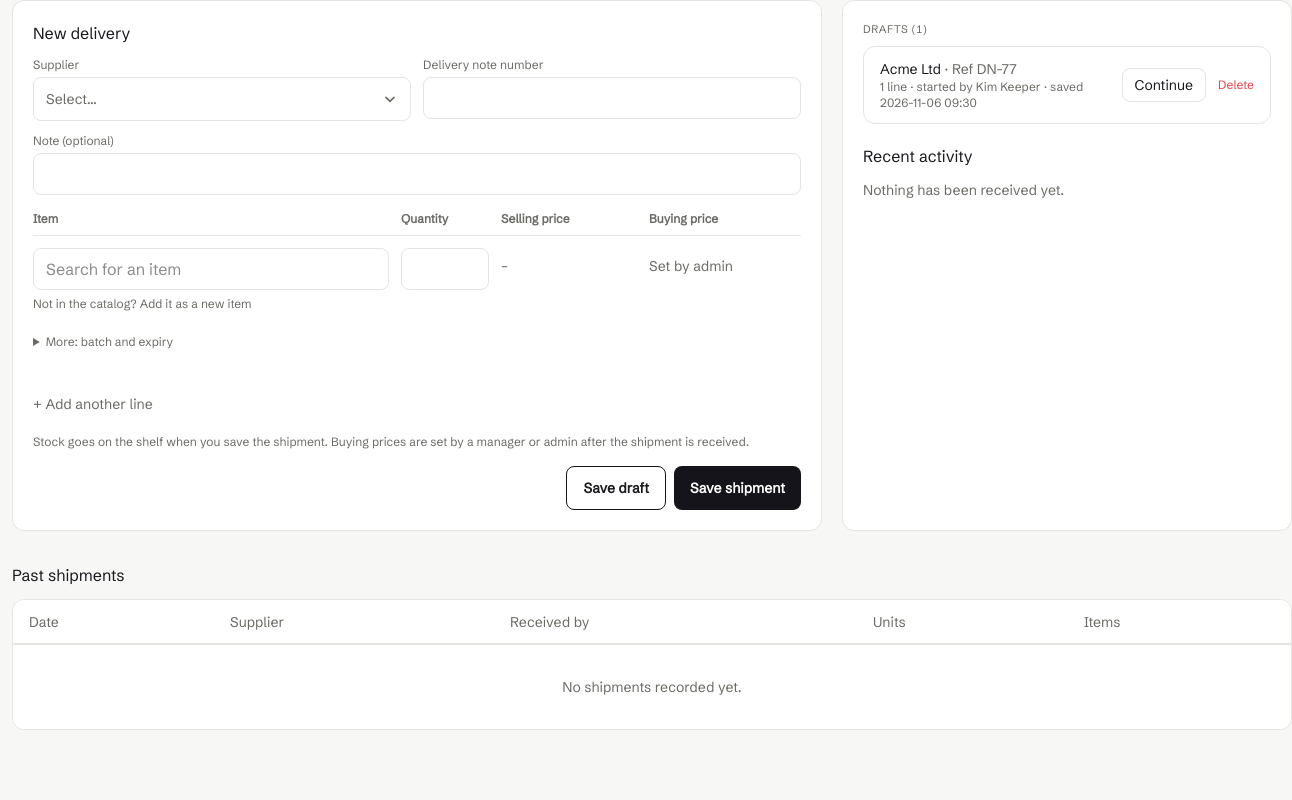
Receive form › keeps the draft when the receive is refused, and shows why
What coordinates should you click on to do the following:
click the button "Continue"
I would click on:
 (1164, 84)
Its box is [1122, 68, 1206, 102].
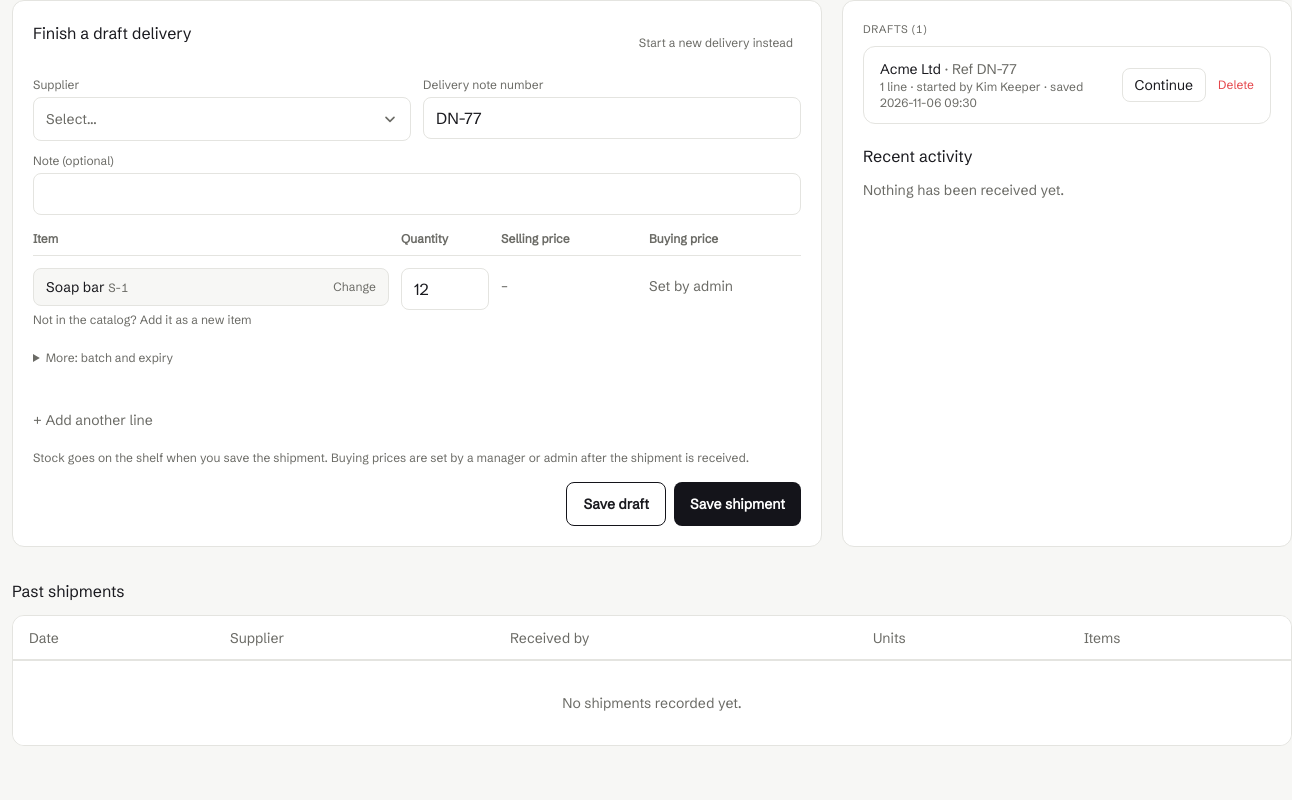
What coordinates should you click on to do the following:
click the button "Save shipment"
I would click on:
 (738, 504)
Its box is [674, 482, 801, 526].
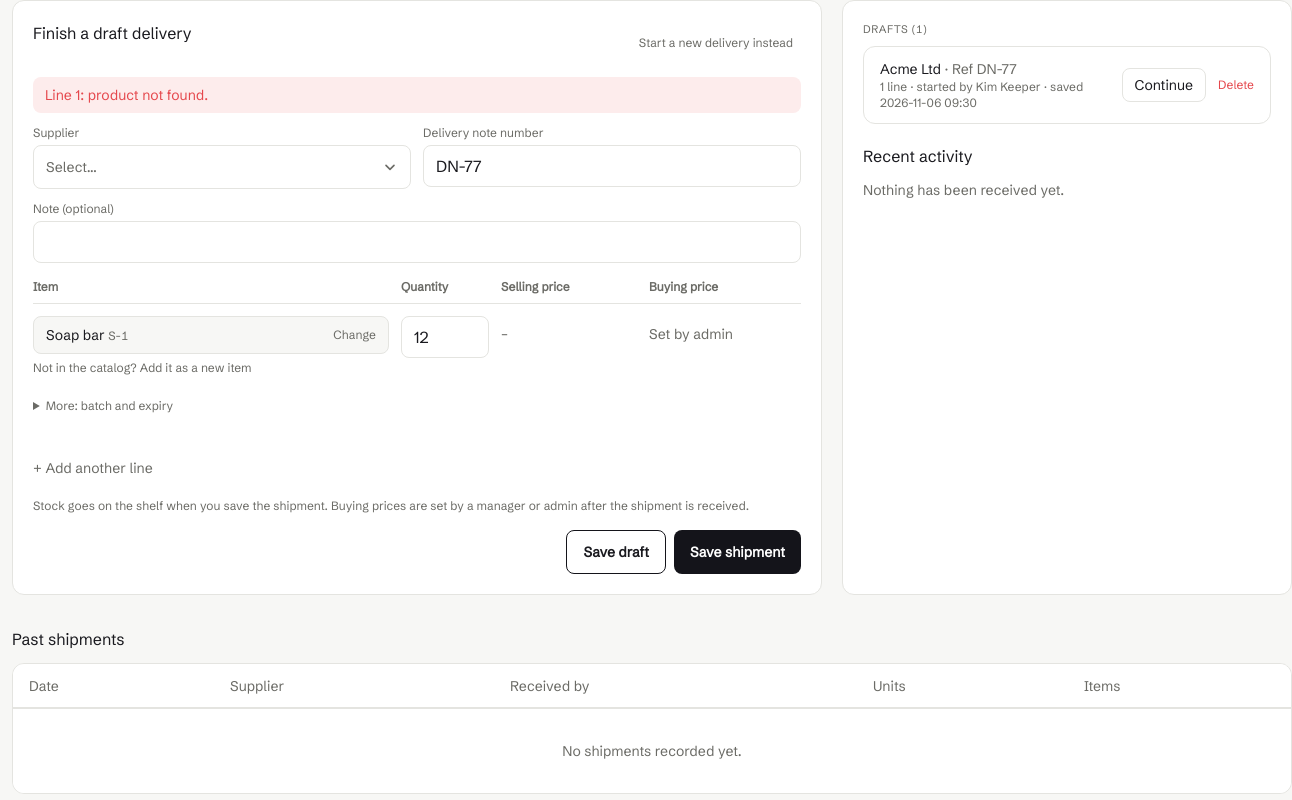
Expected: the text "Line 1: product not found." is shown, [33, 77, 801, 113]
